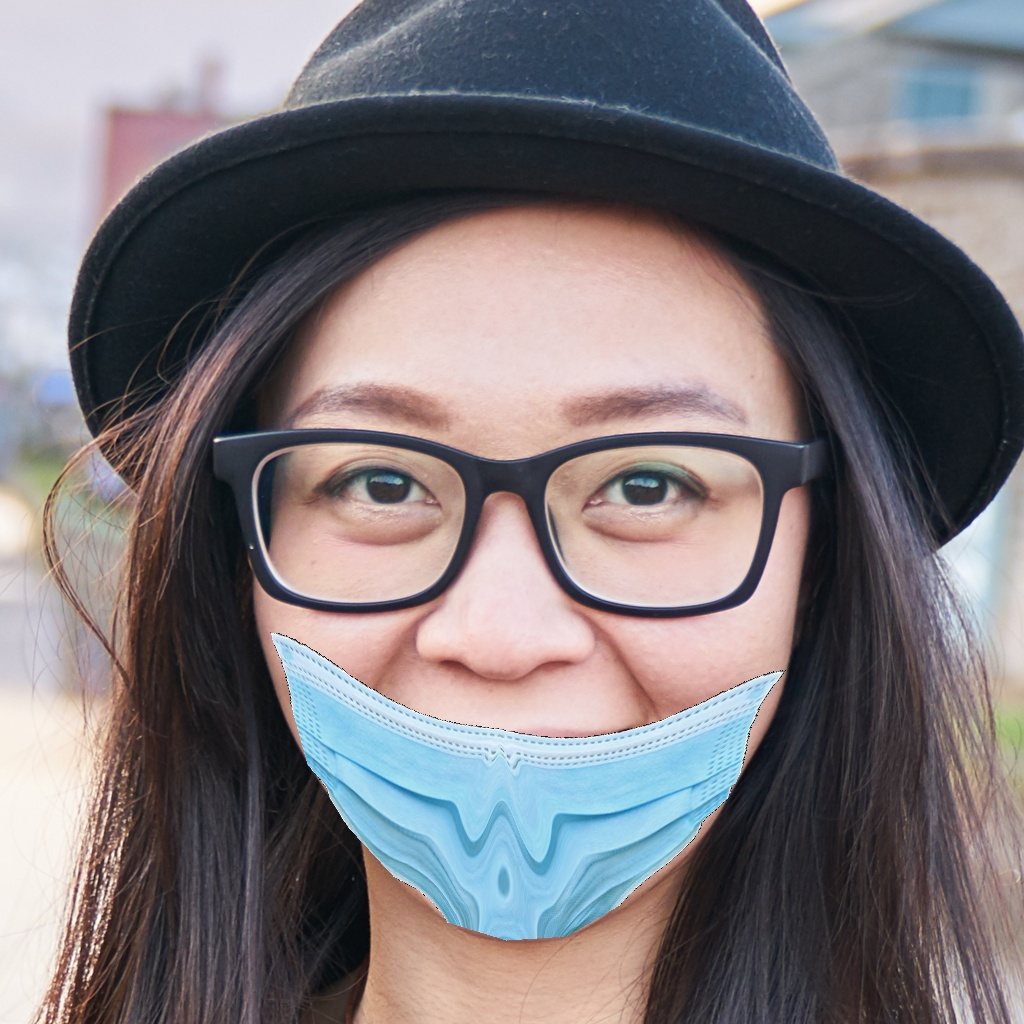mascarilla_mal_puesta: (169, 358, 904, 970)
